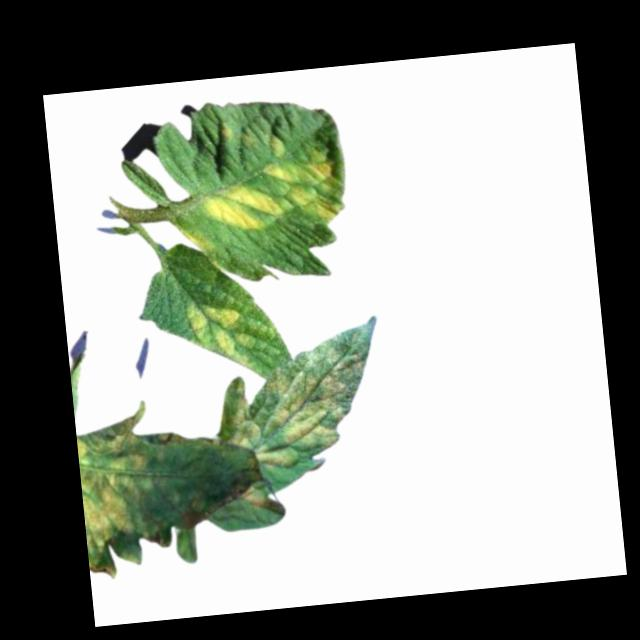Leaf_Mold: (217, 353, 353, 471), (77, 426, 162, 572), (262, 144, 347, 230), (184, 298, 256, 371), (194, 180, 285, 236), (239, 485, 266, 511), (215, 121, 235, 146), (268, 133, 284, 157)
